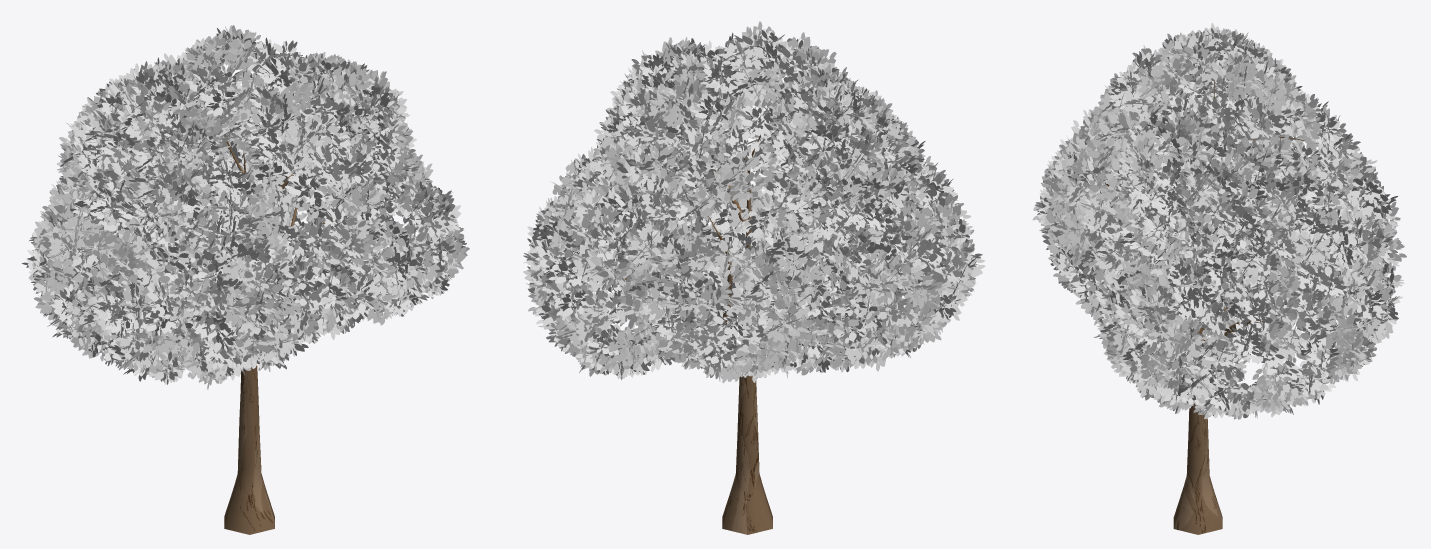
File: Tree04.fbx
3 views of the same model, side by side, from view 1: azimuth 30°, elevation 25°; view 2: azimuth 150°, elevation 25°; view 3: azimuth 270°, elevation 25° (orthographic). The views are drawn at different scales.
Parts seen in each view (by area): view 1: Leaves04, Trunk04; view 2: Leaves04, Trunk04; view 3: Leaves04, Trunk04.
Boxes of the visible parts, box(x1,y1,x2,y2) form: Leaves04: box(22, 25, 469, 389); Trunk04: box(213, 90, 342, 534); Leaves04: box(523, 21, 985, 383); Trunk04: box(607, 89, 775, 534); Leaves04: box(1032, 23, 1406, 419); Trunk04: box(1103, 80, 1317, 534).
Size of the model in its own units: 312 by 351 by 256.
